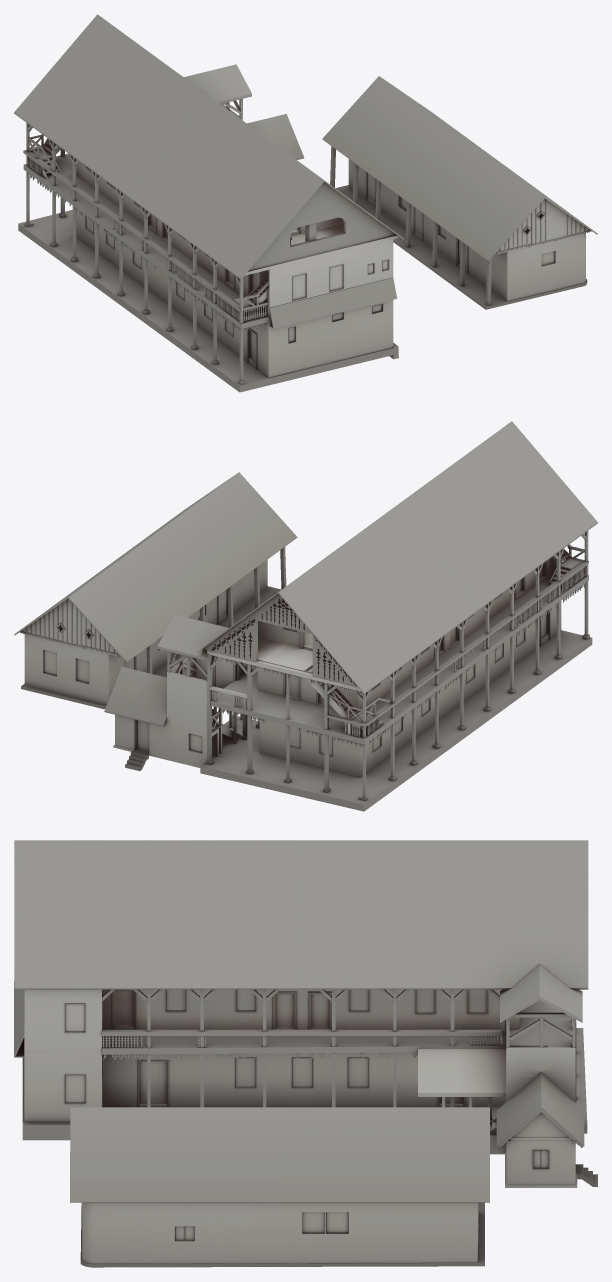
The model's file is CasaVin_export.glb.
The picture shows the model from 3 angles, top to bottom: view 1: azimuth 30°, elevation 25°; view 2: azimuth 150°, elevation 25°; view 3: azimuth 270°, elevation 25°; orthographic projection. The views are drawn at different scales.
Parts seen in each view (by area): view 1: House_A, House_B; view 2: House_A, House_B; view 3: House_B, House_A.
Part boxes in pixels (<box>): House_A: <box>14,14,403,392</box>; House_B: <box>76,64,597,377</box>; House_A: <box>196,421,597,811</box>; House_B: <box>14,472,561,777</box>; House_B: <box>24,964,597,1267</box>; House_A: <box>14,840,588,1154</box>.
Bounding box in the file's own units: 0.7427 × 0.3797 × 0.7833.
Materials: 2 (2 with a texture image).
